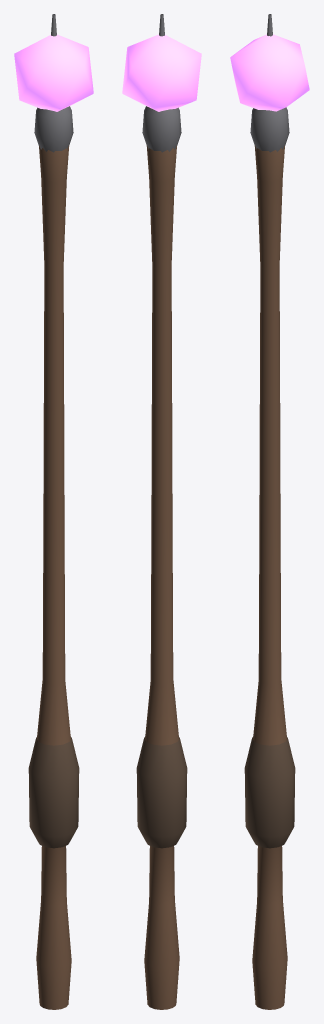
The model's file is staff.glb.
The picture shows the model from 3 angles, left to right: view 1: azimuth 30°, elevation 25°; view 2: azimuth 150°, elevation 25°; view 3: azimuth 330°, elevation 25°; orthographic projection.
Parts seen in each view (by area): view 1: StaffShaft, StaffGrip, StaffCrystal, StaffCollar; view 2: StaffShaft, StaffGrip, StaffCrystal, StaffCollar; view 3: StaffShaft, StaffGrip, StaffCrystal, StaffCollar.
Part boxes in pixels (box(x1,y1,x2,y2)): StaffShaft: box(36, 145, 71, 1009); StaffGrip: box(28, 736, 79, 848); StaffCrystal: box(14, 34, 93, 111); StaffCollar: box(34, 106, 73, 152); StaffShaft: box(144, 145, 179, 1009); StaffGrip: box(136, 736, 187, 848); StaffCrystal: box(122, 34, 201, 111); StaffCollar: box(142, 106, 181, 152); StaffShaft: box(252, 145, 287, 1009); StaffGrip: box(244, 736, 295, 848); StaffCrystal: box(230, 34, 309, 111); StaffCollar: box(250, 107, 289, 152).
Size of the model in its own units: 0.0984 by 1.34 by 0.0936.
